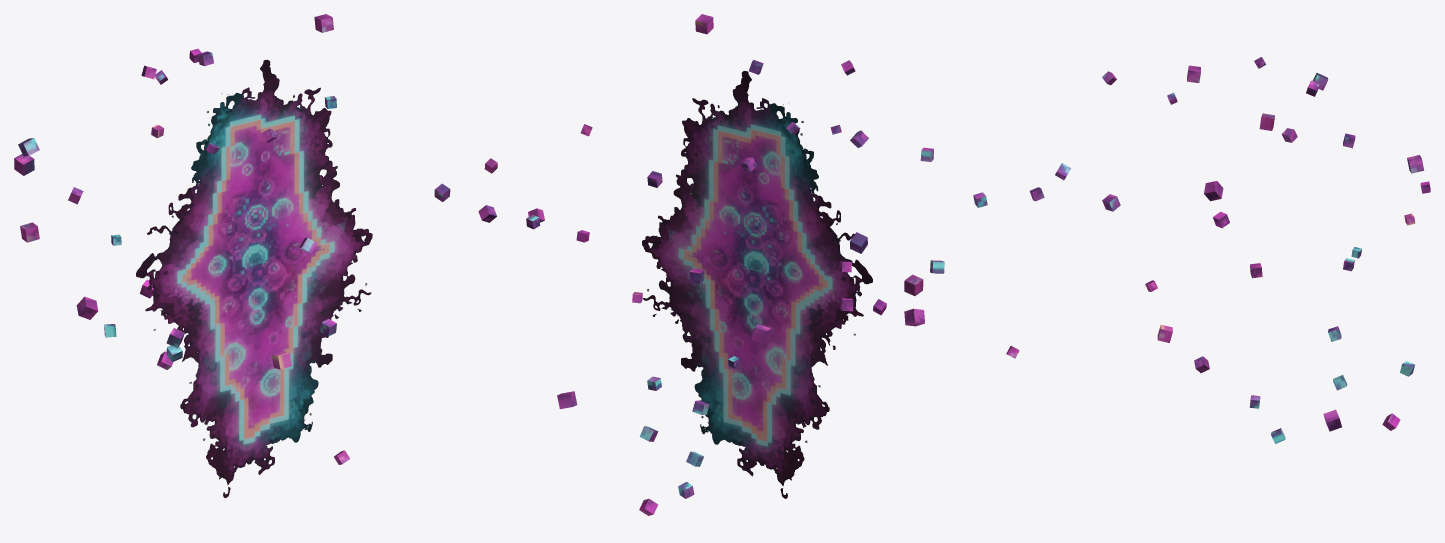
The model's file is EnemyPortal.fbx.
The picture shows the model from 3 angles, left to right: view 1: azimuth 30°, elevation 25°; view 2: azimuth 150°, elevation 25°; view 3: azimuth 270°, elevation 25°; orthographic projection. The views are drawn at different scales.
Visible parts, largest first — view 1: Portal; view 2: Portal; view 3: no part large enough to name.
Part boxes in pixels (bbox=[...]): Portal: bbox=[136, 59, 372, 498]; Portal: bbox=[642, 71, 872, 498].
Size of the model in its own units: 0.6939 by 0.7175 by 0.686.
1 material, 1 textured.
